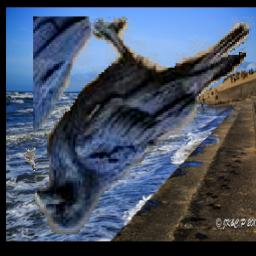Crow: (34, 16, 256, 234)
Sparrow: (20, 147, 37, 171)
